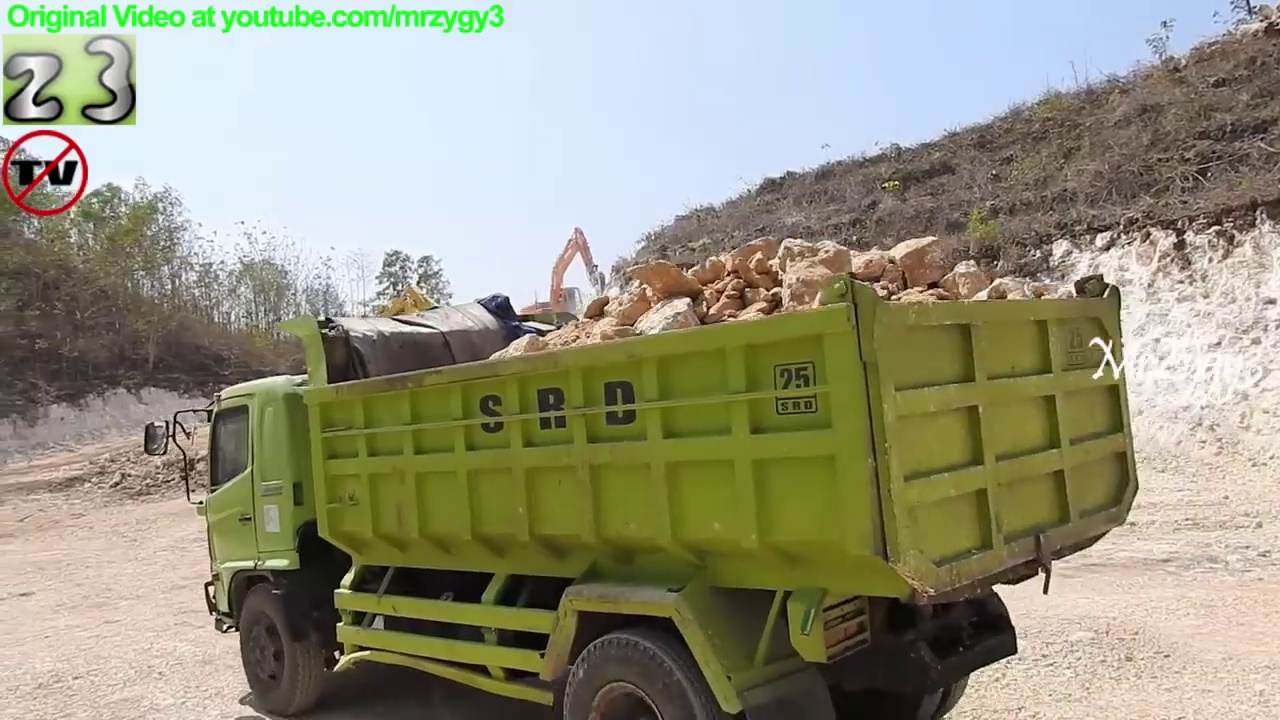excavator: (315, 278, 500, 457), (506, 223, 619, 338)
truck: (138, 265, 1151, 720)
